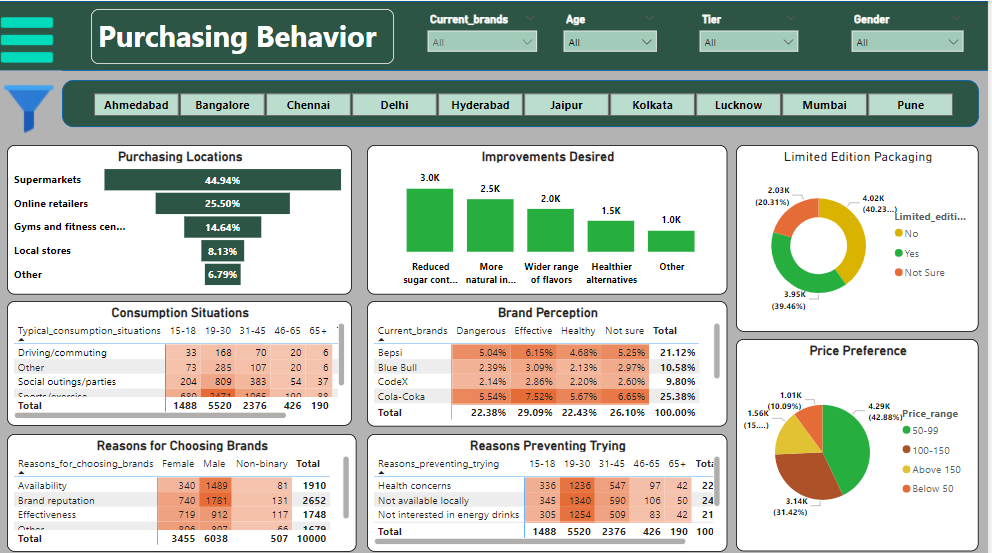

The page's visual inventory and layout, read from the dashboard file:
{"tool":"powerbi","page":{"name":"Purchasing Behavior","canvas":[1280,720],"ordinal":3},"visuals":[{"type":"funnel","title":" Purchasing Locations","fields":{"Category":["fact_survey_responses.Purchase_location"],"Y":["CountNonNull(fact_survey_responses.Response_ID)"]},"box":[14.2,185.7,445,192.8],"z":0},{"type":"pieChart","title":"Price Preference","fields":{"Category":["fact_survey_responses.Price_range"],"Y":["CountNonNull(fact_survey_responses.Response_ID)"]},"box":[955.3,436.5,313.2,273.5],"z":1000},{"type":"pivotTable","title":"Reasons for Choosing Brands","fields":{"Rows":["fact_survey_responses.Reasons_for_choosing_brands"],"Columns":["dim_repondents.Gender"],"Values":["CountNonNull(fact_survey_responses.Response_ID)"]},"box":[14.2,558.4,450.7,151.7],"z":2000},{"type":"pivotTable","title":"Consumption Situations","fields":{"Rows":["fact_survey_responses.Typical_consumption_situations"],"Columns":["dim_repondents.Age"],"Values":["CountNonNull(fact_survey_responses.Response_ID)"]},"box":[14.2,387.1,445.2,161.3],"z":3000},{"type":"pivotTable","title":"Brand Perception","fields":{"Columns":["fact_survey_responses.General_perception"],"Rows":["fact_survey_responses.Current_brands"],"Values":["CountNonNull(fact_survey_responses.Response_ID)"]},"box":[479.1,386.9,464.9,161.6],"z":4000},{"type":"pivotTable","title":"Reasons Preventing Trying","fields":{"Rows":["fact_survey_responses.Reasons_preventing_trying"],"Columns":["dim_repondents.Age"],"Values":["CountNonNull(fact_survey_responses.Response_ID)"]},"box":[479.1,558.4,464.9,151.7],"z":5000},{"type":"clusteredColumnChart","title":" Improvements Desired","fields":{"Category":["fact_survey_responses.Improvements_desired"],"Y":["CountNonNull(fact_survey_responses.Response_ID)"]},"box":[479.1,185.7,464.9,192.8],"z":6000},{"type":"donutChart","title":"Limited Edition Packaging","fields":{"Category":["fact_survey_responses.Limited_edition_packaging"],"Y":["CountNonNull(fact_survey_responses.Response_ID)"]},"box":[955.3,185.7,313.2,240.9],"z":7000},{"type":"shape","box":[0,0,1280,89.9],"z":8000},{"type":"shape","box":[85,102,1183.5,60.9],"z":9000},{"type":"textbox","box":[122.7,10,391,71.3],"z":10000},{"type":"slicer","fields":{"Values":["dim_cities.City"]},"box":[100.6,112,1158,39.7],"z":11000},{"type":"slicer","fields":{"Values":["dim_repondents.Age"]},"box":[722.1,10,139.8,71.3],"z":12000},{"type":"slicer","fields":{"Values":["dim_cities.Tier"]},"box":[897.6,10,147,71.3],"z":13000},{"type":"slicer","fields":{"Values":["dim_repondents.Gender"]},"box":[1094.5,10,164.1,71.3],"z":13500},{"type":"slicer","fields":{"Values":["fact_survey_responses.Current_brands"]},"box":[546.5,10,161.2,71.3],"z":14000},{"type":"actionButton","title":"Clear fliter","box":[0,89.3,85,96.4],"z":14500},{"type":"actionButton","title":"Menu Open","box":[0,10,85.6,79.9],"z":16000}]}

Visuals, with their boxes in screenshot pixels (x1, y1, x2, y2), scaled from the page's 1280x720 canvas onto the 992x553 screenshot:
" Purchasing Locations" funnel: rect(11, 143, 356, 291)
"Price Preference" pieChart: rect(740, 335, 983, 545)
"Reasons for Choosing Brands" pivotTable: rect(11, 429, 360, 545)
"Consumption Situations" pivotTable: rect(11, 297, 356, 421)
"Brand Perception" pivotTable: rect(371, 297, 732, 421)
"Reasons Preventing Trying" pivotTable: rect(371, 429, 732, 545)
" Improvements Desired" clusteredColumnChart: rect(371, 143, 732, 291)
"Limited Edition Packaging" donutChart: rect(740, 143, 983, 328)
shape: rect(0, 0, 991, 69)
shape: rect(66, 78, 983, 125)
textbox: rect(95, 8, 398, 62)
slicer - dim_cities.City: rect(78, 86, 975, 117)
slicer - dim_repondents.Age: rect(560, 8, 668, 62)
slicer - dim_cities.Tier: rect(696, 8, 810, 62)
slicer - dim_repondents.Gender: rect(848, 8, 975, 62)
slicer - fact_survey_responses.Current_brands: rect(424, 8, 548, 62)
"Clear fliter" actionButton: rect(0, 69, 66, 143)
"Menu Open" actionButton: rect(0, 8, 66, 69)
